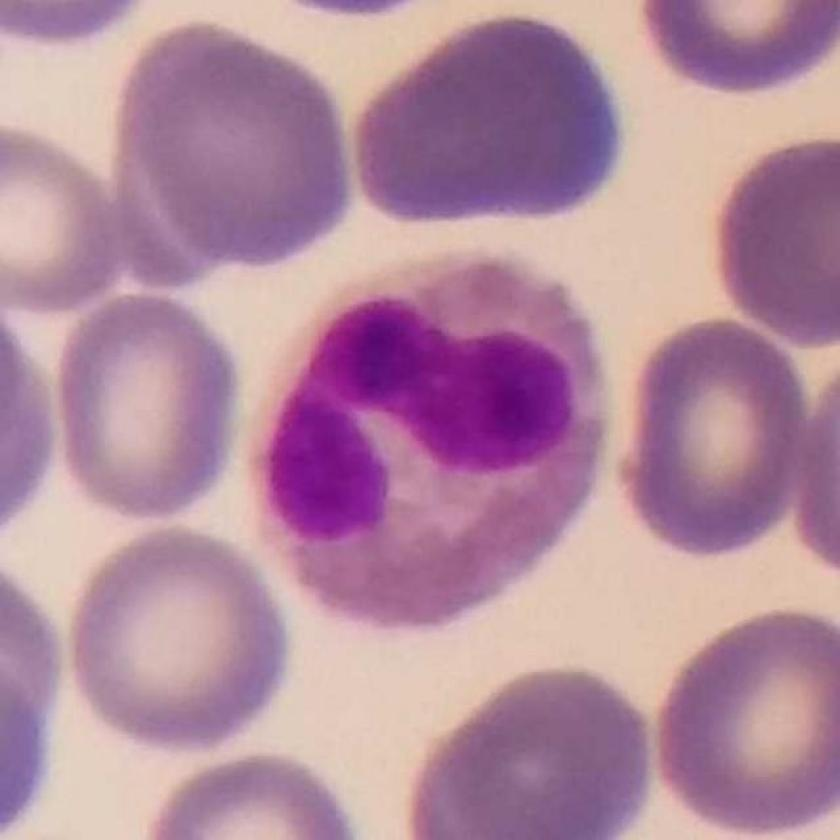eosinophil: (244, 256, 615, 636)
